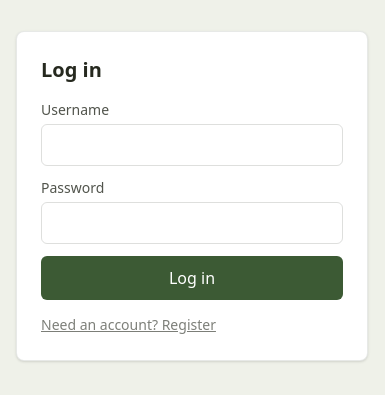
Test: AuthGate › shows an error and does not reveal children on failed login
Type "alice" into the field labelled "Username" at x=192, y=145, box [41,124,343,166]
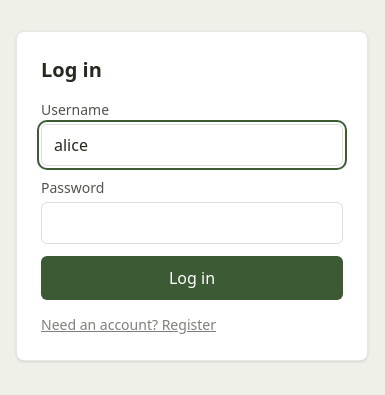
Type "wrong" into the password field labelled "Password" at x=192, y=223, box [41,202,343,244]
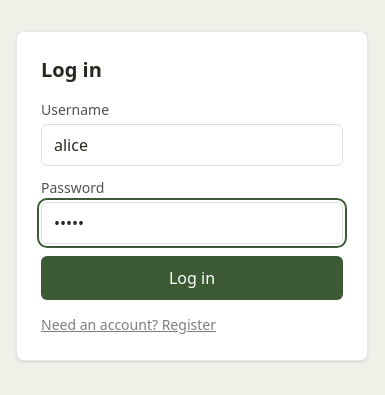
Click the button "Log in" at x=192, y=278, box [41,256,343,300]
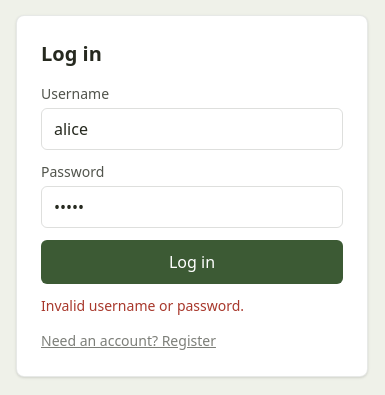
Check: the message reads "Invalid username or password.", box [41,296,244,315]
